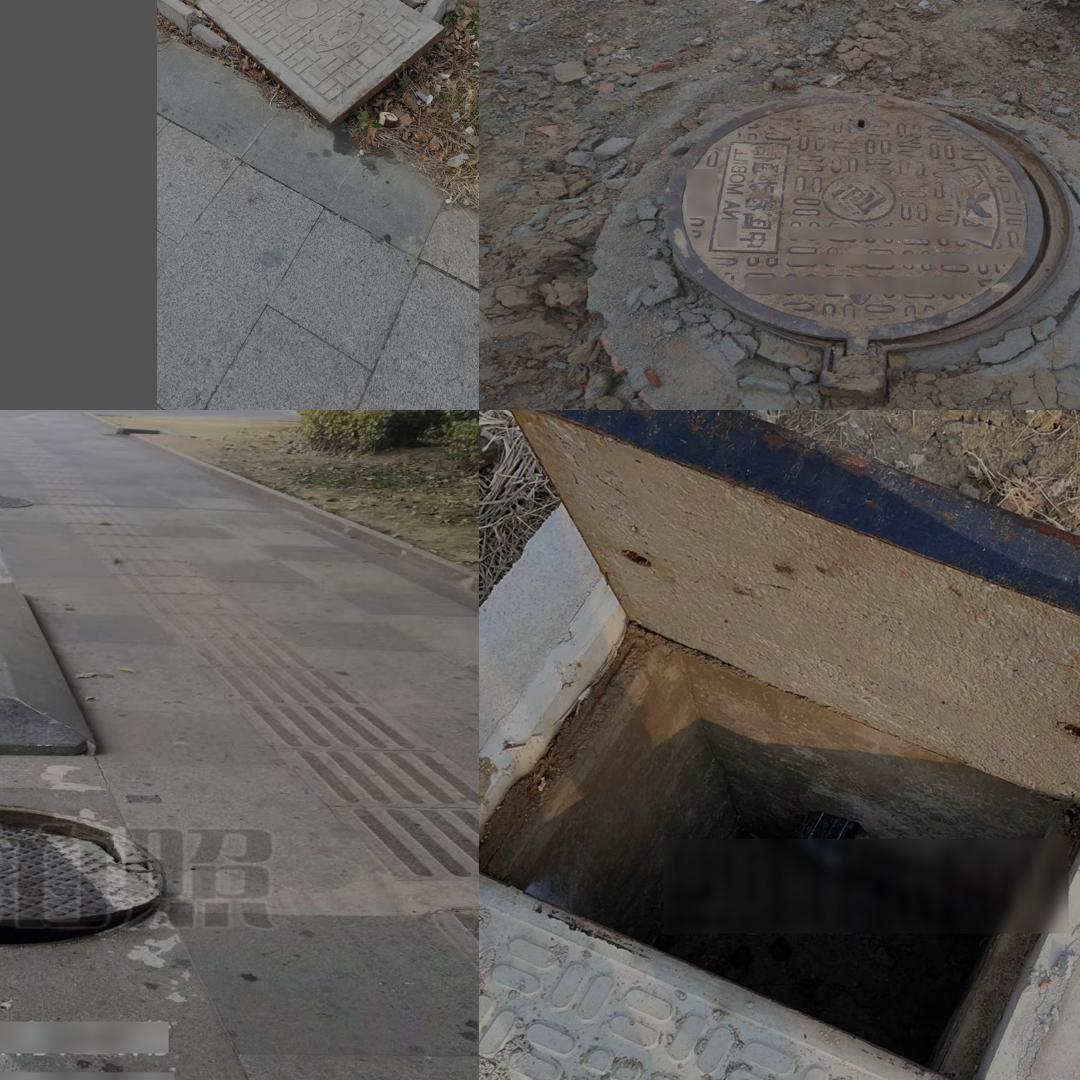uncovered: (479, 412, 1080, 1080), (663, 91, 1072, 400), (159, 0, 452, 121), (0, 803, 166, 947)
